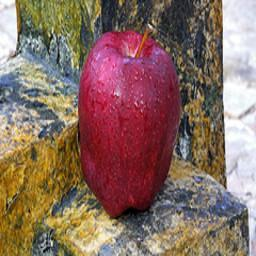apple: (76, 29, 181, 220)
